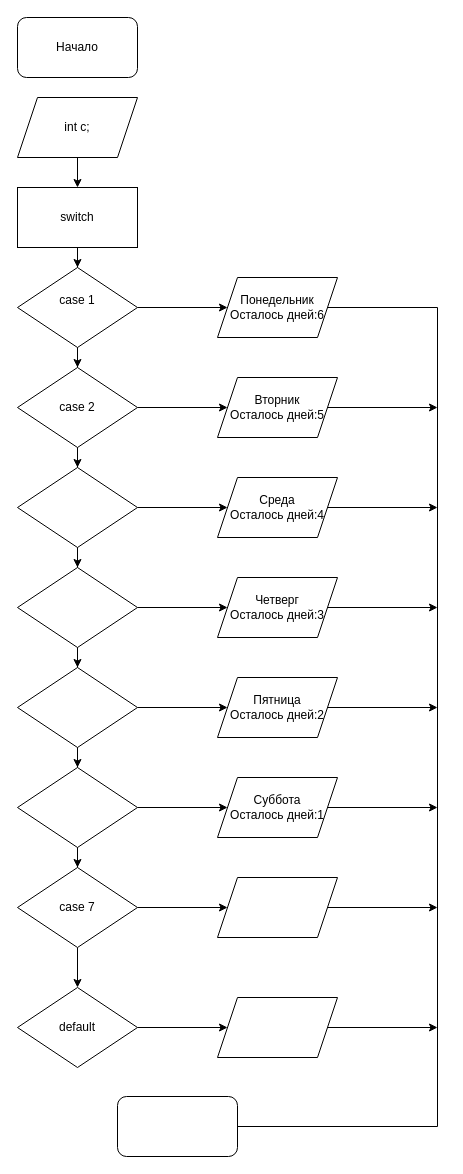
This 463x1174 diagram has some shape labels left out. The box of each missing label's shape, as (x1, y1, x2, y2) in pixels:
case 3: (16, 466, 138, 548)
case 4: (16, 566, 138, 648)
case 5: (16, 666, 138, 748)
case 6: (16, 766, 138, 848)
Воскресенье Осталось дней:0: (216, 876, 338, 938)
День недели не определен: (216, 996, 338, 1058)
Конец: (116, 1096, 238, 1156)
